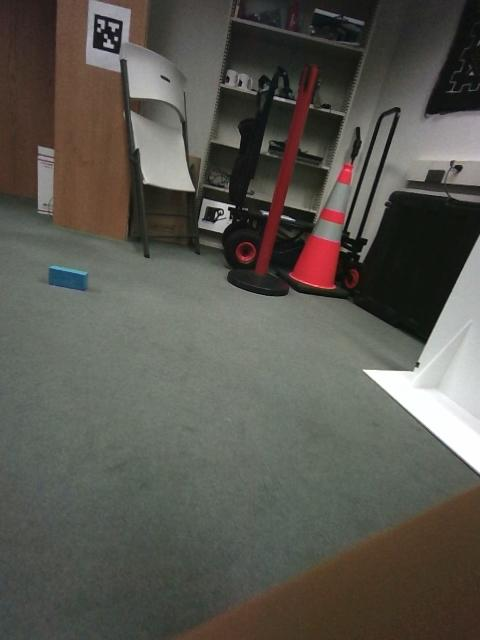block: (320, 319, 355, 345)
